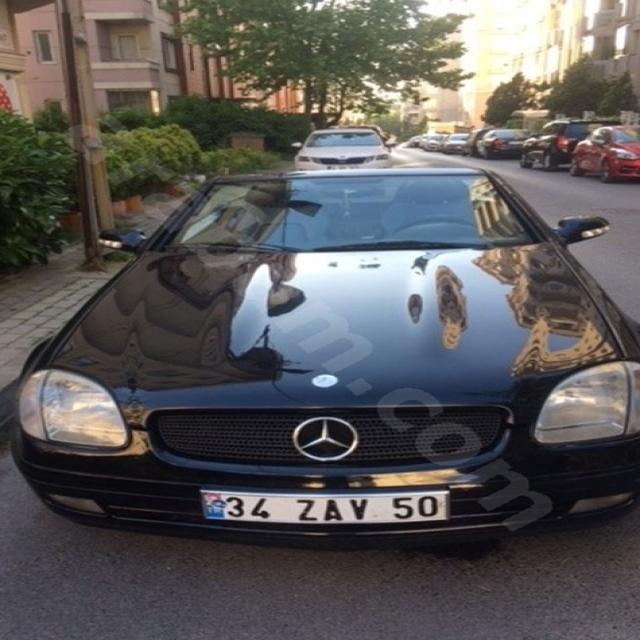license_plate: (201, 492, 450, 524)
